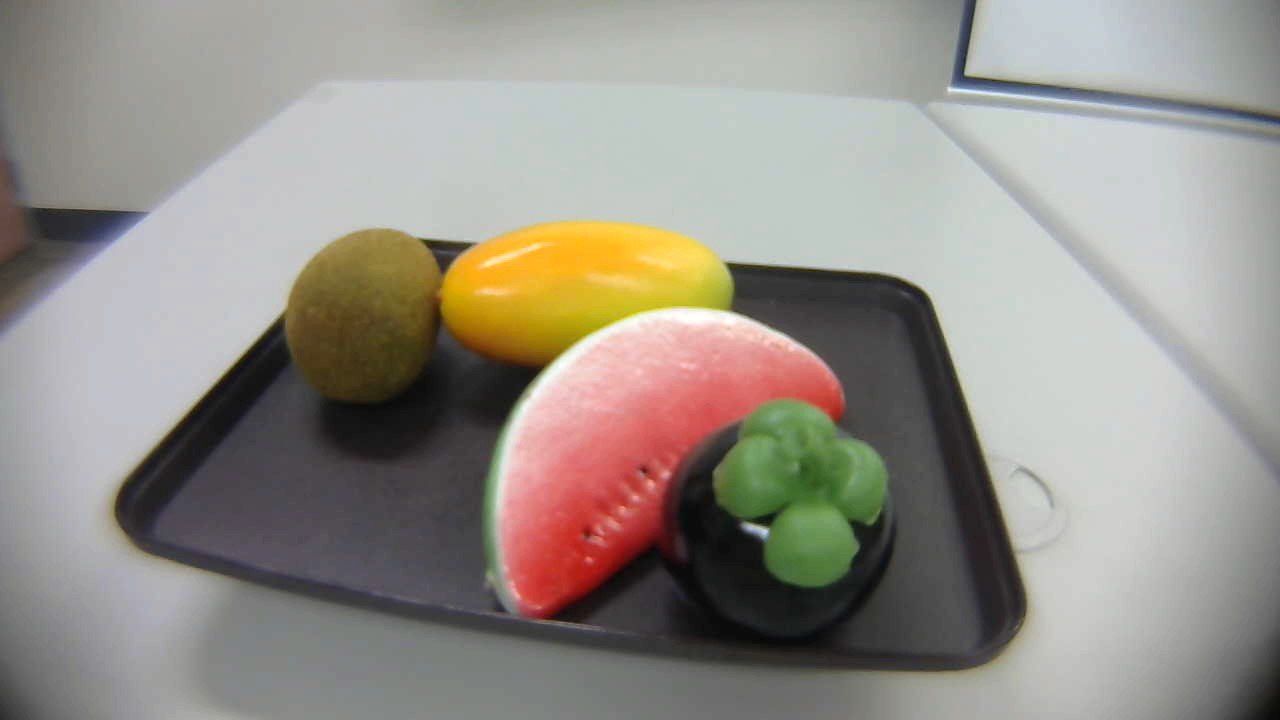kiwi fruit: (273, 225, 451, 414)
mangosteen: (647, 404, 909, 634)
water melon: (472, 296, 855, 618)
yellow mango: (403, 218, 753, 369)
